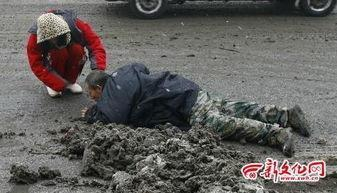Fall-Detected: (69, 57, 311, 157)
